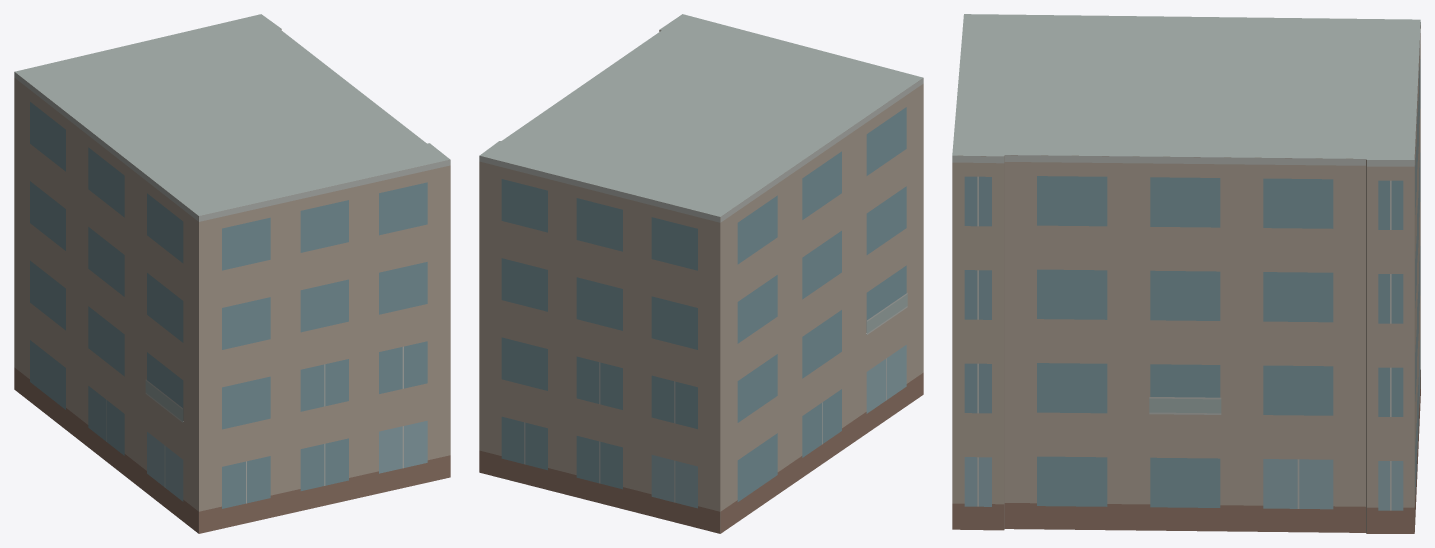
File: survey-upis-32938781.glb
3 views of the same model, side by side, from view 1: azimuth 30°, elevation 25°; view 2: azimuth 150°, elevation 25°; view 3: azimuth 270°, elevation 25° (orthographic). The views are drawn at different scales.
Visible parts, largest first — view 1: survey-upis-32938781.tmp; view 2: survey-upis-32938781.tmp; view 3: survey-upis-32938781.tmp.
Part boxes in pixels (x1,y1,x2,y2): survey-upis-32938781.tmp: [14, 14, 450, 533]; survey-upis-32938781.tmp: [479, 14, 923, 533]; survey-upis-32938781.tmp: [952, 14, 1420, 533].
Size of the model in its own units: 11.1 by 13.25 by 15.06.
